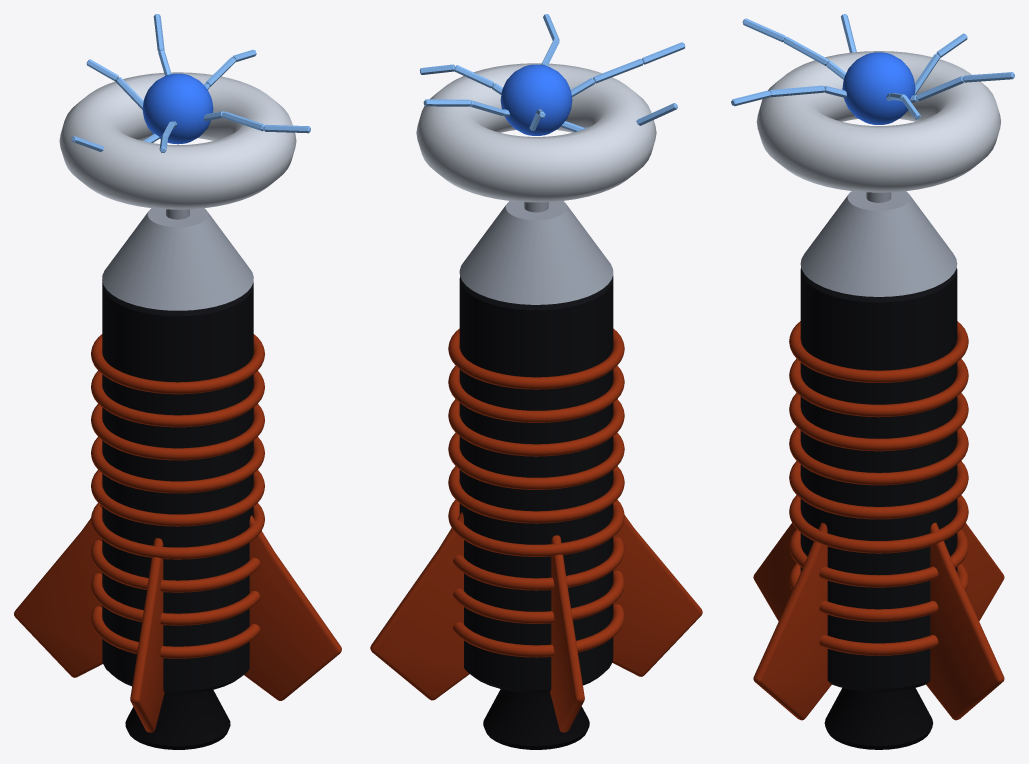
File: Rocket_25_TeslaCoil.obj
3 renders of one model, left to right at view 1: azimuth 30°, elevation 25°; view 2: azimuth 150°, elevation 25°; view 3: azimuth 270°, elevation 25°, orthographic. The views are drawn at different scales.
Parts seen in each view (by area): view 1: R25_Body, R25_Toroid, R25_Neck, R25_Fin_4, R25_Fin_2, R25_Nozzle, R25_Fin_3, R25_Top, R25_Coil_9, R25_Coil_6, R25_Coil_8, R25_Coil_5 (+5 smaller); view 2: R25_Body, R25_Toroid, R25_Neck, R25_Fin, R25_Fin_3, R25_Nozzle, R25_Fin_2, R25_Top, R25_Coil_9, R25_Coil_5, R25_Coil_7, R25_Coil_6 (+5 smaller); view 3: R25_Body, R25_Toroid, R25_Neck, R25_Fin_4, R25_Fin, R25_Nozzle, R25_Top, R25_Coil_9, R25_Coil_5, R25_Coil_6, R25_Coil_7, R25_Coil_8 (+6 smaller).
Part boxes in pixels (x1,y1,x2,y2): R25_Body: (102,282,253,693); R25_Toroid: (59,72,296,209); R25_Neck: (102,208,253,310); R25_Fin_4: (244,515,341,700); R25_Fin_2: (14,505,102,677); R25_Nozzle: (125,690,230,749); R25_Fin_3: (130,538,164,732); R25_Top: (142,73,213,144); R25_Coil_9: (91,334,264,394); R25_Coil_6: (91,437,264,493); R25_Coil_8: (91,371,264,427); R25_Coil_5: (91,470,264,526); R25_Body: (459,275,613,692); R25_Toroid: (416,63,656,202); R25_Neck: (459,201,613,304); R25_Fin: (370,512,469,700); R25_Fin_3: (612,502,702,676); R25_Nozzle: (483,689,589,749); R25_Fin_2: (550,535,584,732); R25_Top: (500,64,572,135); R25_Coil_9: (448,328,624,389); R25_Coil_5: (448,466,624,523); R25_Coil_7: (448,399,624,456); R25_Coil_6: (448,432,624,489); R25_Body: (800,267,957,691); R25_Toroid: (756,51,1000,192); R25_Neck: (800,191,957,296); R25_Fin_4: (753,522,831,720); R25_Fin: (926,522,1004,720); R25_Nozzle: (824,688,933,749); R25_Top: (842,52,915,124); R25_Coil_9: (789,321,968,382); R25_Coil_5: (789,461,968,519); R25_Coil_6: (789,427,968,485); R25_Coil_7: (789,393,968,451); R25_Coil_8: (789,358,968,417).
Size of the model in its own units: 2.6 by 7.15 by 2.72.
